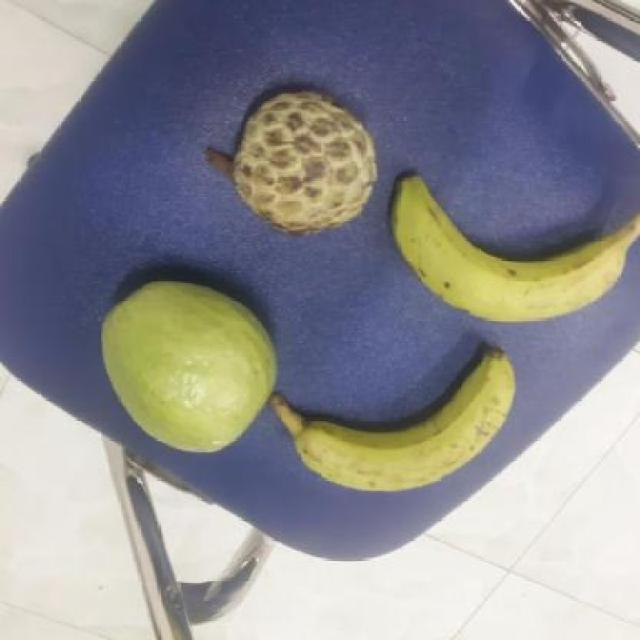banana: (389, 168, 640, 323), (269, 344, 511, 488)
guava: (95, 281, 278, 445)
sugar apple: (208, 90, 375, 238)
